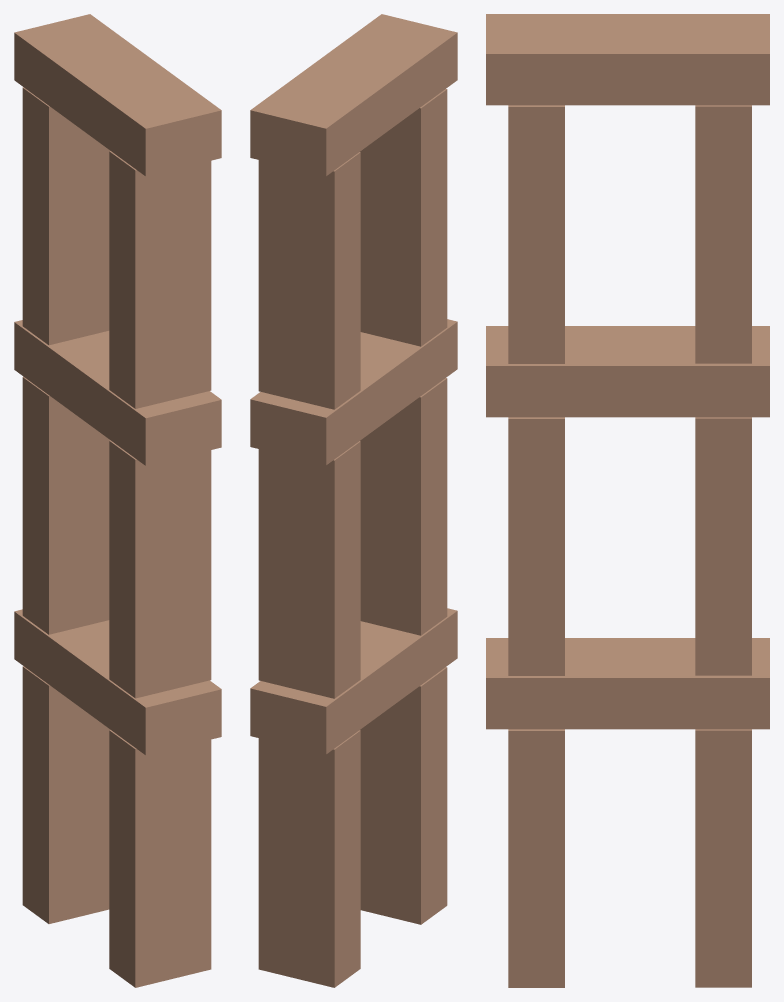
The model's file is tripple_pi.dae.
The picture shows the model from 3 angles, left to right: view 1: azimuth 30°, elevation 25°; view 2: azimuth 150°, elevation 25°; view 3: azimuth 270°, elevation 25°; orthographic projection. The views are drawn at different scales.
Visible parts, largest first — view 1: base (×9); view 2: base (×9); view 3: base (×9).
Boxes of the visible parts, x1,y1,x2,y2 form: base (×9): [14, 14, 221, 987]; base (×9): [250, 14, 457, 987]; base (×9): [486, 14, 769, 987].
Size of the model in its own units: 0.0508 by 0.1524 by 0.5536.
